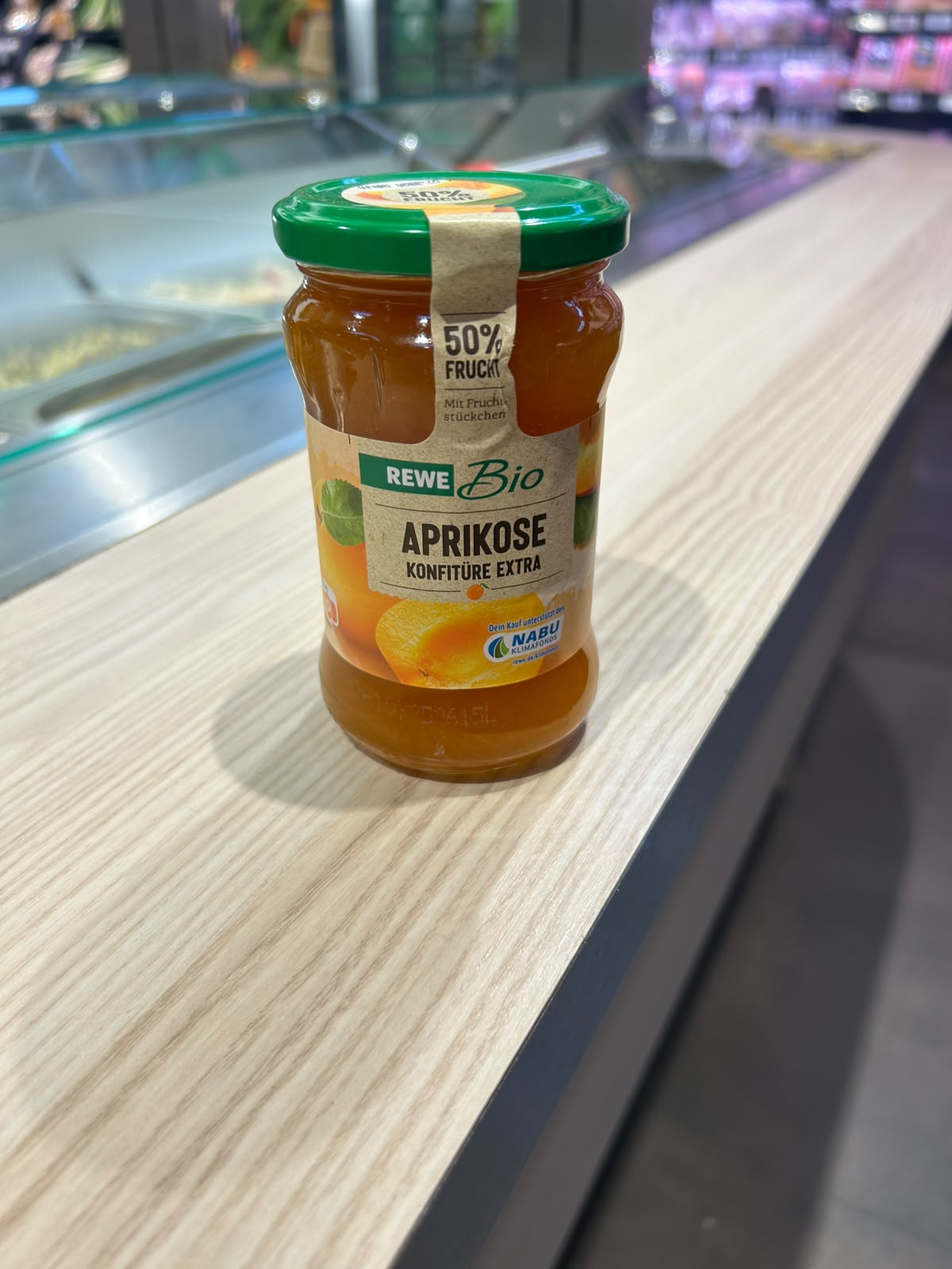jar: (261, 159, 644, 787)
